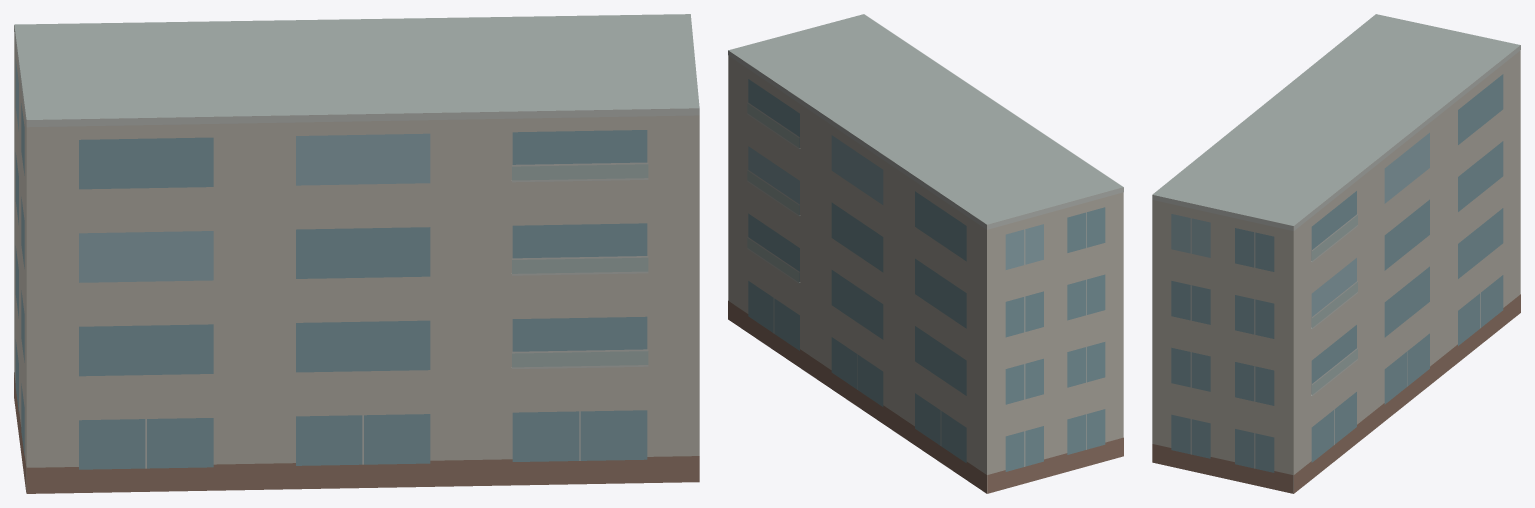
The model's file is survey-upis-32671425.glb.
The picture shows the model from 3 angles, left to right: view 1: azimuth 30°, elevation 25°; view 2: azimuth 150°, elevation 25°; view 3: azimuth 270°, elevation 25°; orthographic projection. The views are drawn at different scales.
Visible parts, largest first — view 1: survey-upis-32671425.tmp; view 2: survey-upis-32671425.tmp; view 3: survey-upis-32671425.tmp.
Part boxes in pixels (x1,y1,x2,y2): survey-upis-32671425.tmp: (14,14,699,493); survey-upis-32671425.tmp: (728,14,1123,493); survey-upis-32671425.tmp: (1152,14,1520,493).
Size of the model in its own units: 21.76 by 12.8 by 15.98.
